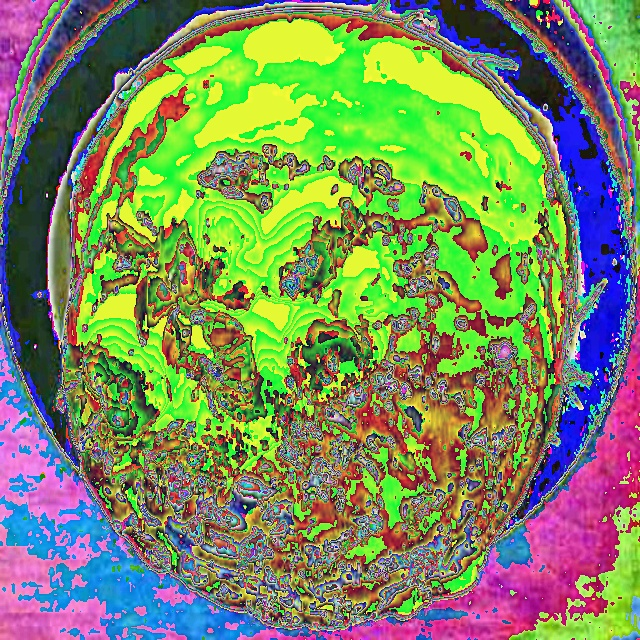background: (57, 14, 577, 631)
